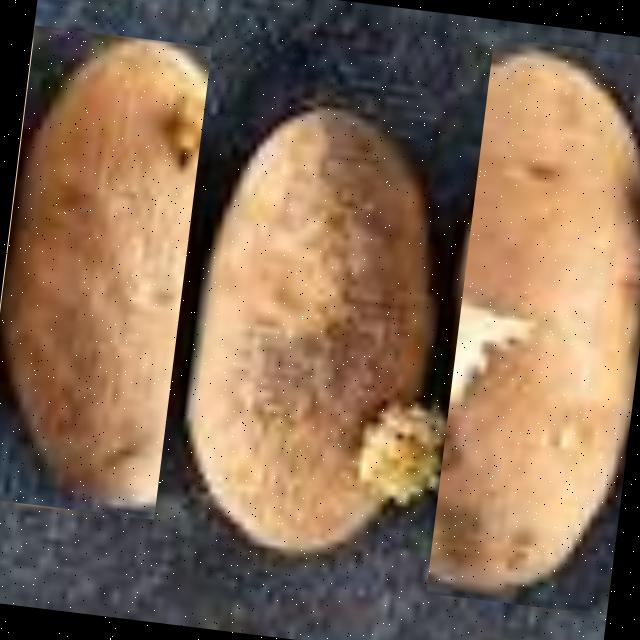Sprouted potato: (148, 72, 489, 576), (425, 37, 640, 615), (0, 25, 211, 519)
